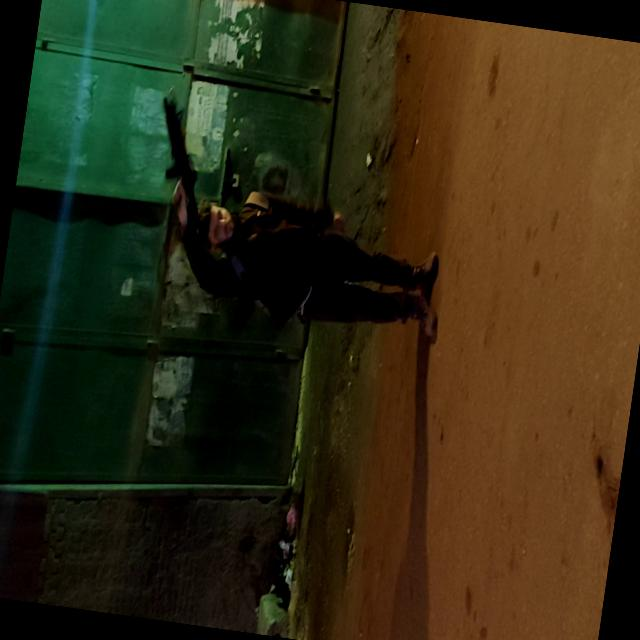long weapon: (130, 91, 218, 255)
